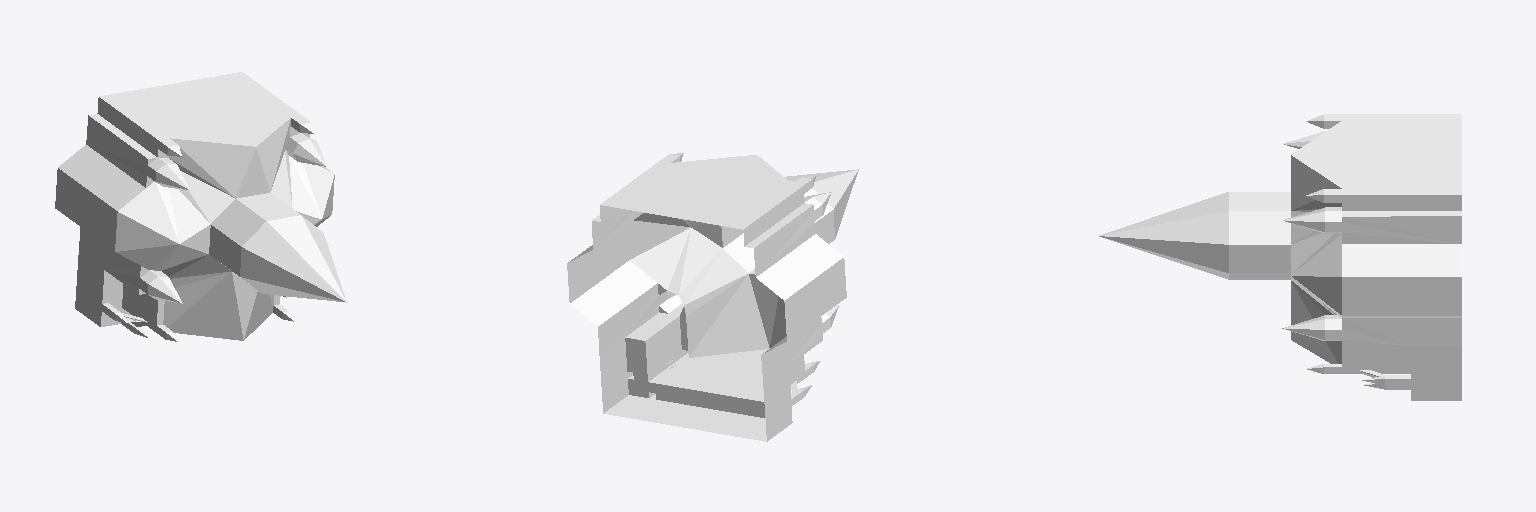
File: DEU_597_KARLSRUHE_CHRISTU_S.OBJ
3 views of the same model, side by side, from view 1: azimuth 30°, elevation 25°; view 2: azimuth 150°, elevation 25°; view 3: azimuth 270°, elevation 25° (orthographic).
Parts seen in each view (by area): view 1: DEU_597_KARLSRUHE_CHRISTU_S; view 2: DEU_597_KARLSRUHE_CHRISTU_S; view 3: DEU_597_KARLSRUHE_CHRISTU_S.
Part boxes in pixels (left/top/right/bottom): DEU_597_KARLSRUHE_CHRISTU_S: left=55, top=72, right=346, bottom=341; DEU_597_KARLSRUHE_CHRISTU_S: left=567, top=153, right=858, bottom=441; DEU_597_KARLSRUHE_CHRISTU_S: left=1099, top=114, right=1461, bottom=400.
Size of the model in its own units: 30.27 by 28.7 by 43.4.